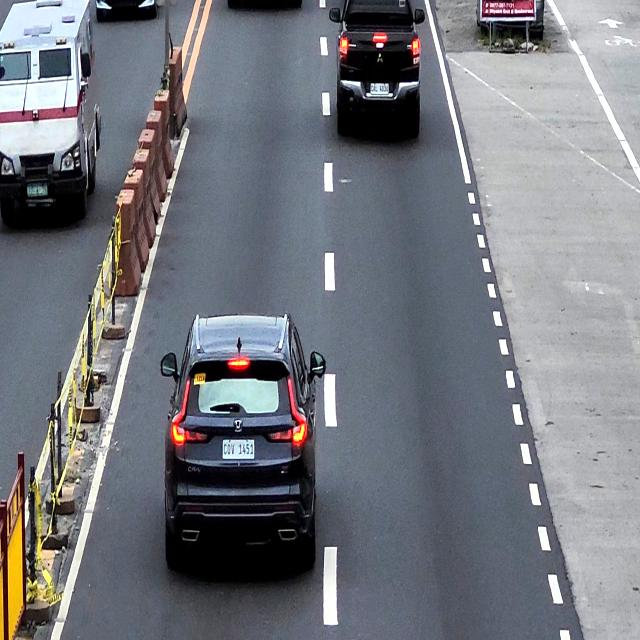Car: (160, 314, 326, 575), (327, 0, 425, 138)
License-Plate: (222, 440, 254, 460), (370, 83, 390, 95)
